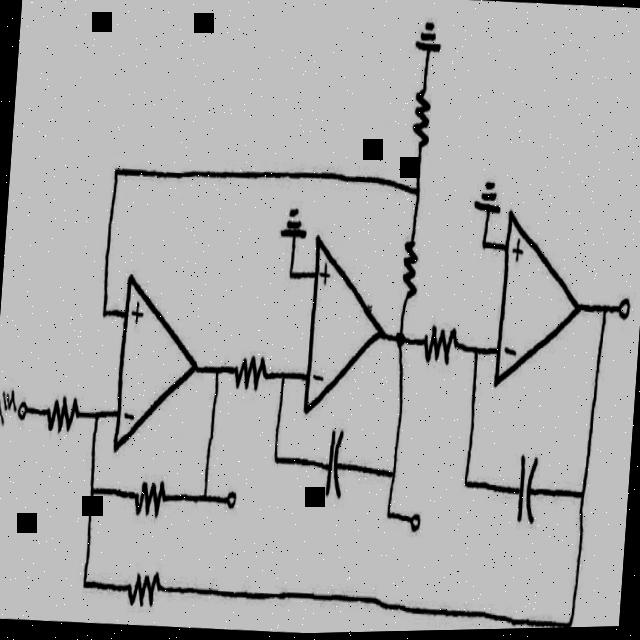capacitor: (505, 446, 549, 543), (313, 424, 353, 509)
ground: (469, 169, 508, 228), (412, 13, 448, 65), (276, 201, 310, 255)
resistor: (34, 381, 85, 449), (128, 459, 176, 531), (415, 312, 463, 381), (121, 560, 167, 621), (391, 227, 426, 306), (228, 344, 268, 409), (407, 82, 434, 163)
